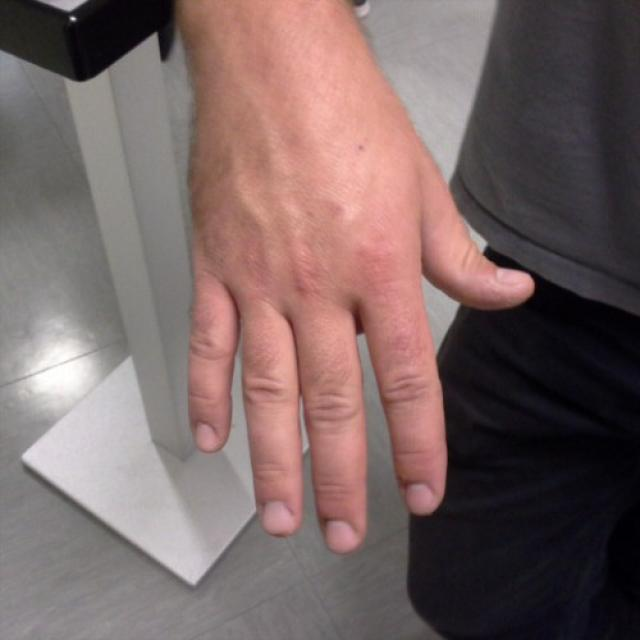paper: (185, 118, 532, 555)
